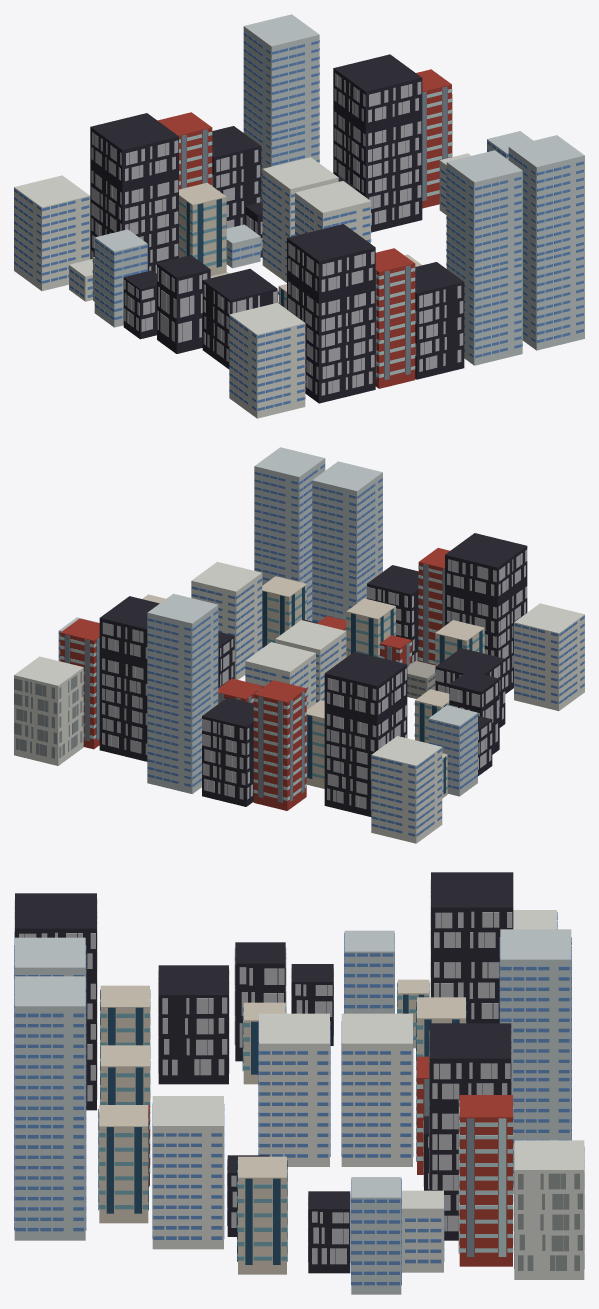
Rendered from level1 buliding.fbx.
3 views of the same model, one above another, from view 1: azimuth 30°, elevation 25°; view 2: azimuth 150°, elevation 25°; view 3: azimuth 270°, elevation 25° (orthographic). The views are drawn at different scales.
Parts seen in each view (by area): view 1: building; view 2: building; view 3: building.
Part boxes in pixels (x1=…): building: x1=14, y1=14, x2=584, y2=418; building: x1=14, y1=447, x2=584, y2=843; building: x1=14, y1=872, x2=584, y2=1294.
Bounding box in the file's own units: 35303 × 13870 × 30632.
